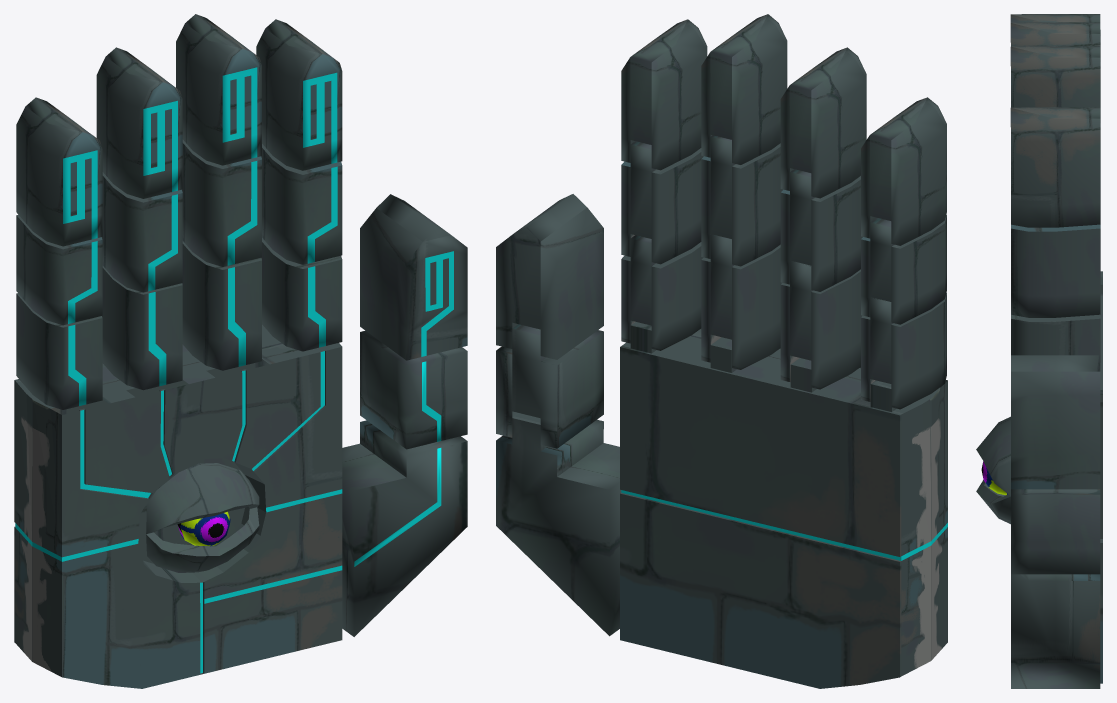
The model's file is Right Hand.fbx.
The picture shows the model from 3 angles, left to right: view 1: azimuth 30°, elevation 25°; view 2: azimuth 150°, elevation 25°; view 3: azimuth 270°, elevation 25°; orthographic projection. The views are drawn at different scales.
Parts seen in each view (by area): view 1: Hand, Muis, DuimVK2, WVK3, PVK3, MVK3, WijsVK3, DuimVK1, MVK1, MVK2, Ooglid, WVK1 (+6 smaller); view 2: Hand, Muis, DuimVK2, WVK3, PVK3, MVK3, WijsVK3, DuimVK1, MVK1, MVK2, WVK1, WijsVK2 (+4 smaller); view 3: DuimVK2, WijsVK3, Muis, WijsVK2, DuimVK1, MVK3, WijsVK1, Ooglid, WVK3, Hand, PVK3, Pupil.
Boxes of the visible parts, x1=… form: Hand: x1=14, y1=324, x2=342, y2=688; Muis: x1=342, y1=420, x2=467, y2=636; DuimVK2: x1=360, y1=194, x2=467, y2=360; WVK3: x1=96, y1=47, x2=182, y2=198; PVK3: x1=16, y1=97, x2=102, y2=246; MVK3: x1=176, y1=14, x2=261, y2=165; WijsVK3: x1=256, y1=19, x2=342, y2=170; DuimVK1: x1=360, y1=330, x2=467, y2=449; MVK1: x1=182, y1=241, x2=261, y2=370; MVK2: x1=182, y1=139, x2=261, y2=266; Ooglid: x1=146, y1=463, x2=259, y2=572; WVK1: x1=102, y1=266, x2=182, y2=390; Hand: x1=620, y1=322, x2=947, y2=688; Muis: x1=496, y1=413, x2=621, y2=636; DuimVK2: x1=496, y1=194, x2=603, y2=359; WVK3: x1=780, y1=47, x2=866, y2=198; PVK3: x1=861, y1=97, x2=946, y2=245; MVK3: x1=701, y1=14, x2=787, y2=164; WijsVK3: x1=621, y1=19, x2=707, y2=170; DuimVK1: x1=496, y1=324, x2=603, y2=448; MVK1: x1=701, y1=234, x2=781, y2=369; MVK2: x1=701, y1=135, x2=782, y2=266; WVK1: x1=780, y1=260, x2=862, y2=389; WijsVK2: x1=621, y1=141, x2=703, y2=264; DuimVK2: x1=1011, y1=355, x2=1100, y2=489; WijsVK3: x1=1010, y1=107, x2=1100, y2=227; Muis: x1=1011, y1=574, x2=1100, y2=688; WijsVK2: x1=1011, y1=224, x2=1100, y2=317; DuimVK1: x1=1011, y1=489, x2=1100, y2=574; MVK3: x1=1010, y1=46, x2=1100, y2=122; WijsVK1: x1=1011, y1=314, x2=1100, y2=362; Ooglid: x1=976, y1=416, x2=1010, y2=524; WVK3: x1=1010, y1=22, x2=1100, y2=61; Hand: x1=1100, y1=271, x2=1102, y2=683; PVK3: x1=1010, y1=14, x2=1100, y2=37; Pupil: x1=981, y1=461, x2=1007, y2=495.
Size of the model in its own units: 382 by 546 by 106.
3 materials, 2 textured.
